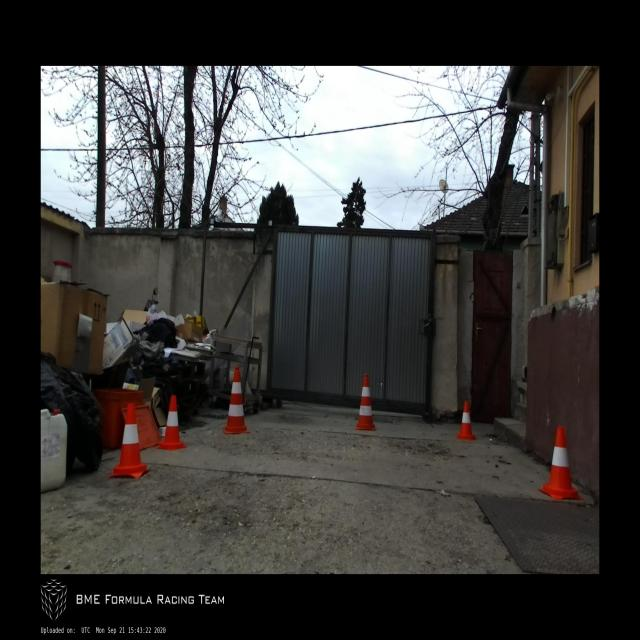large_orange_cone: (222, 366, 250, 434), (355, 374, 376, 431)
orange_cone: (538, 426, 584, 500), (108, 404, 150, 479), (155, 396, 188, 450), (455, 401, 478, 440)
